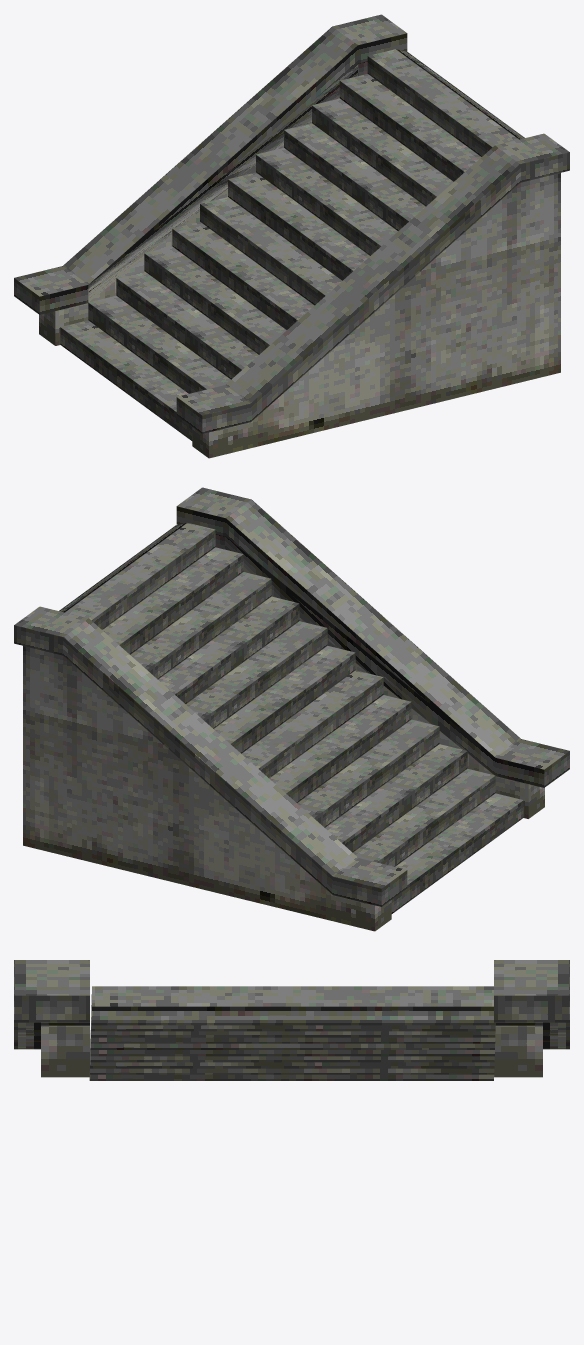
File: concrete_stairs.glb
3 renders of one model, top to bottom at view 1: azimuth 30°, elevation 25°; view 2: azimuth 150°, elevation 25°; view 3: azimuth 270°, elevation 25°, orthographic. The views are drawn at different scales.
Visible parts, largest first — view 1: Concrete_stairs; view 2: Concrete_stairs; view 3: Concrete_stairs.
Part boxes in pixels (<box>): Concrete_stairs: <box>14,14,569,458</box>; Concrete_stairs: <box>14,487,569,931</box>; Concrete_stairs: <box>14,960,569,1080</box>.
Size of the model in its own units: 2.83 by 1.67 by 2.51.
Materials: 1 (1 with a texture image).
